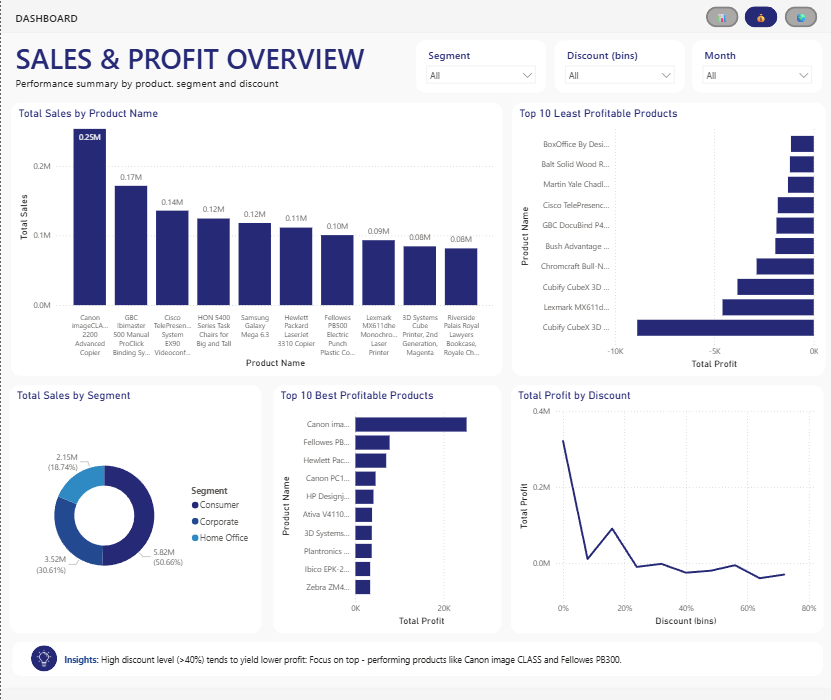

The page's visual inventory and layout, read from the dashboard file:
{"tool":"powerbi","page":{"name":"Product & Customer Analysis","canvas":[1280,1080],"ordinal":1},"visuals":[{"type":"clusteredColumnChart","fields":{"Category":["Superstore.Product Name"],"Y":["Superstore.Total Sales"]},"box":[14.6,160,755.7,420.1],"z":0,"group":"g3"},{"type":"group","id":"g1","title":"Group 1","box":[16.5,988.7,1247.3,53.2],"z":0},{"type":"clusteredBarChart","title":"Top 10 Least Profitable Products","fields":{"Category":["Superstore.Product Name"],"Y":["Superstore.Total Profit"]},"box":[785,160,481.7,420.1],"z":1000,"group":"g3"},{"type":"group","id":"g2","title":"Group 2","box":[12.8,594.3,1252.8,379.7],"z":1000},{"type":"clusteredBarChart","title":"Top 10 Best Profitable Products","fields":{"Category":["Superstore.Product Name"],"Y":["Superstore.Total Profit"]},"box":[418.2,594.3,350.4,381.5],"z":1000,"group":"g2"},{"type":"textbox","box":[16.5,55,576.9,97.2],"z":2000},{"type":"group","id":"g3","title":"Group 3","box":[14.6,160,1252.1,420],"z":3000},{"type":"donutChart","fields":{"Category":["Superstore.Segment"],"Y":["Superstore.Total Sales"]},"box":[12.8,594.3,387.5,381.5],"z":3000,"group":"g2"},{"type":"slicer","fields":{"Values":["Superstore.Segment"]},"box":[639.2,64.2,199.6,80.7],"z":4000},{"type":"lineChart","title":"Total Profit by Discount","fields":{"Category":["Superstore.Discount (bins)"],"Y":["Superstore.Total Profit"]},"box":[783.7,594.3,481,381.5],"z":4000,"group":"g2"},{"type":"shape","box":[0,0,1280.3,52],"z":5000},{"type":"shape","box":[16.5,988.7,1247.3,53.2],"z":5000,"group":"g1"},{"type":"shape","box":[45.7,995.1,40.3,40.4],"z":6000,"group":"g1"},{"type":"shape","box":[0,1060.2,1280.3,20.2],"z":6000},{"type":"slicer","fields":{"Values":["Superstore.Discount (bins)"]},"box":[851.7,64.2,199.6,80.7],"z":7000},{"type":"image","box":[45.7,999.1,40.3,32.3],"z":7000,"group":"g1"},{"type":"slicer","fields":{"Values":["DateTable.Month"]},"box":[1064.2,64.2,199.6,80.7],"z":8000},{"type":"textbox","box":[91.3,1001.8,1090.8,33.7],"z":8000,"group":"g1"},{"type":"actionButton","box":[1085,12,50,32],"z":9000},{"type":"actionButton","box":[1145,12,50,32],"z":10000},{"type":"actionButton","box":[1205,12,50,32],"z":11000},{"type":"textbox","box":[16.5,12.8,858.4,38.5],"z":12000}]}

Visuals, with their boxes in screenshot pixels (x1, y1, x2, y2), scaled from the page's 1280x1080 canvas onto the 831x700 screenshot:
clusteredColumnChart - Superstore.Product Name x Superstore.Total Sales: x1=9, y1=104, x2=500, y2=376
"Group 1" group: x1=11, y1=641, x2=820, y2=675
"Top 10 Least Profitable Products" clusteredBarChart: x1=510, y1=104, x2=822, y2=376
"Group 2" group: x1=8, y1=385, x2=822, y2=631
"Top 10 Best Profitable Products" clusteredBarChart: x1=272, y1=385, x2=499, y2=632
textbox: x1=11, y1=36, x2=385, y2=99
"Group 3" group: x1=9, y1=104, x2=822, y2=376
donutChart - Superstore.Segment x Superstore.Total Sales: x1=8, y1=385, x2=260, y2=632
slicer - Superstore.Segment: x1=415, y1=42, x2=545, y2=94
"Total Profit by Discount" lineChart: x1=509, y1=385, x2=821, y2=632
shape: x1=0, y1=0, x2=830, y2=34
shape: x1=11, y1=641, x2=820, y2=675
shape: x1=30, y1=645, x2=56, y2=671
shape: x1=0, y1=687, x2=830, y2=699
slicer - Superstore.Discount (bins): x1=553, y1=42, x2=683, y2=94
image: x1=30, y1=648, x2=56, y2=668
slicer - DateTable.Month: x1=691, y1=42, x2=820, y2=94
textbox: x1=59, y1=649, x2=767, y2=671
actionButton: x1=704, y1=8, x2=737, y2=29
actionButton: x1=743, y1=8, x2=776, y2=29
actionButton: x1=782, y1=8, x2=815, y2=29
textbox: x1=11, y1=8, x2=568, y2=33
